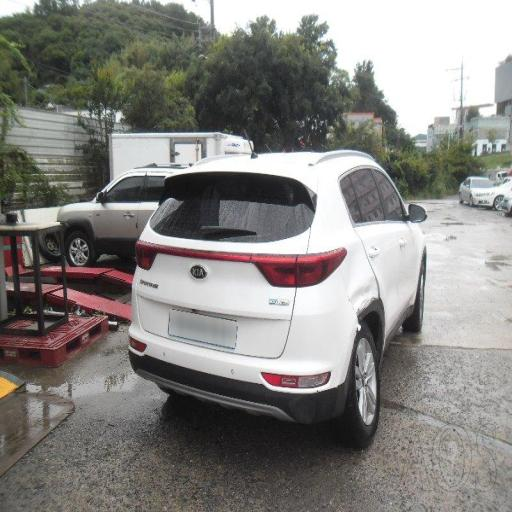dent: (322, 244, 386, 330)
scratch: (198, 165, 306, 251)
